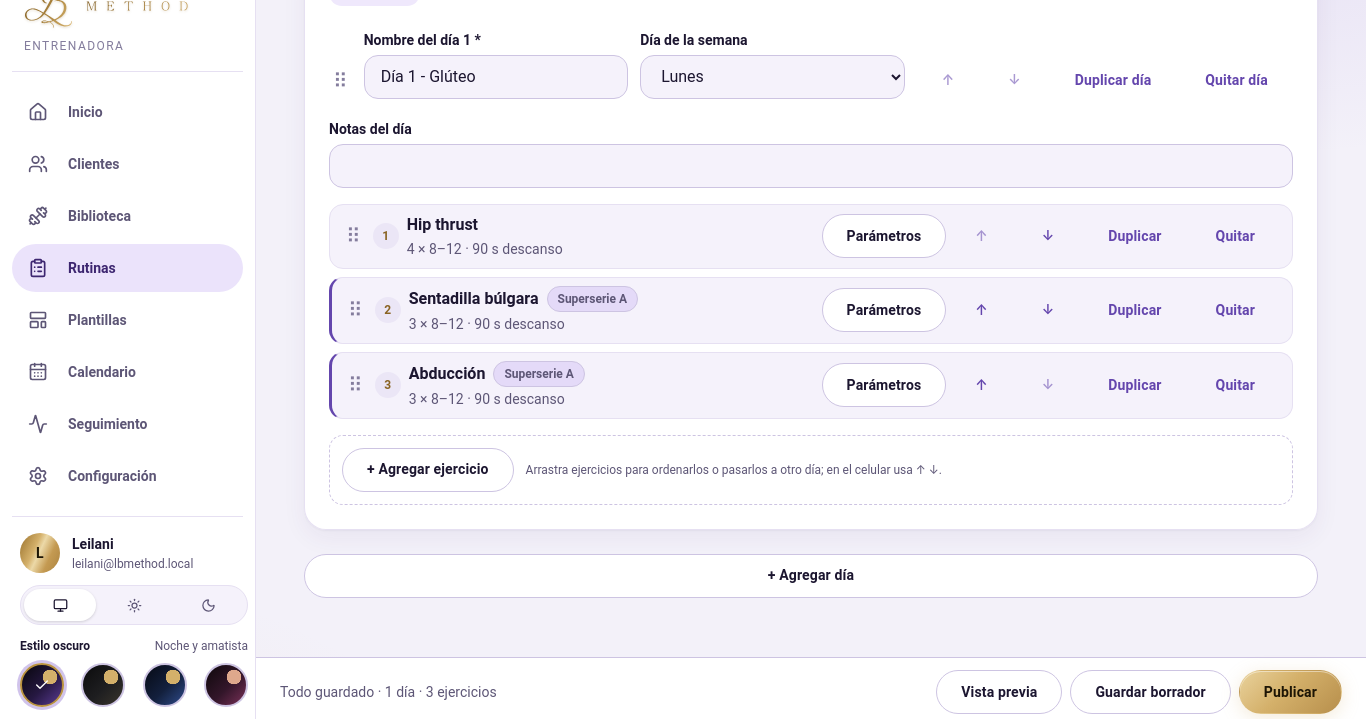
Test: rutinas › un ejercicio recién agregado no trae valores inventados y exige las series
(page scrolled)
Step 1. Click the button "+ Agregar ejercicio" → (428, 470), box [342, 448, 514, 492]
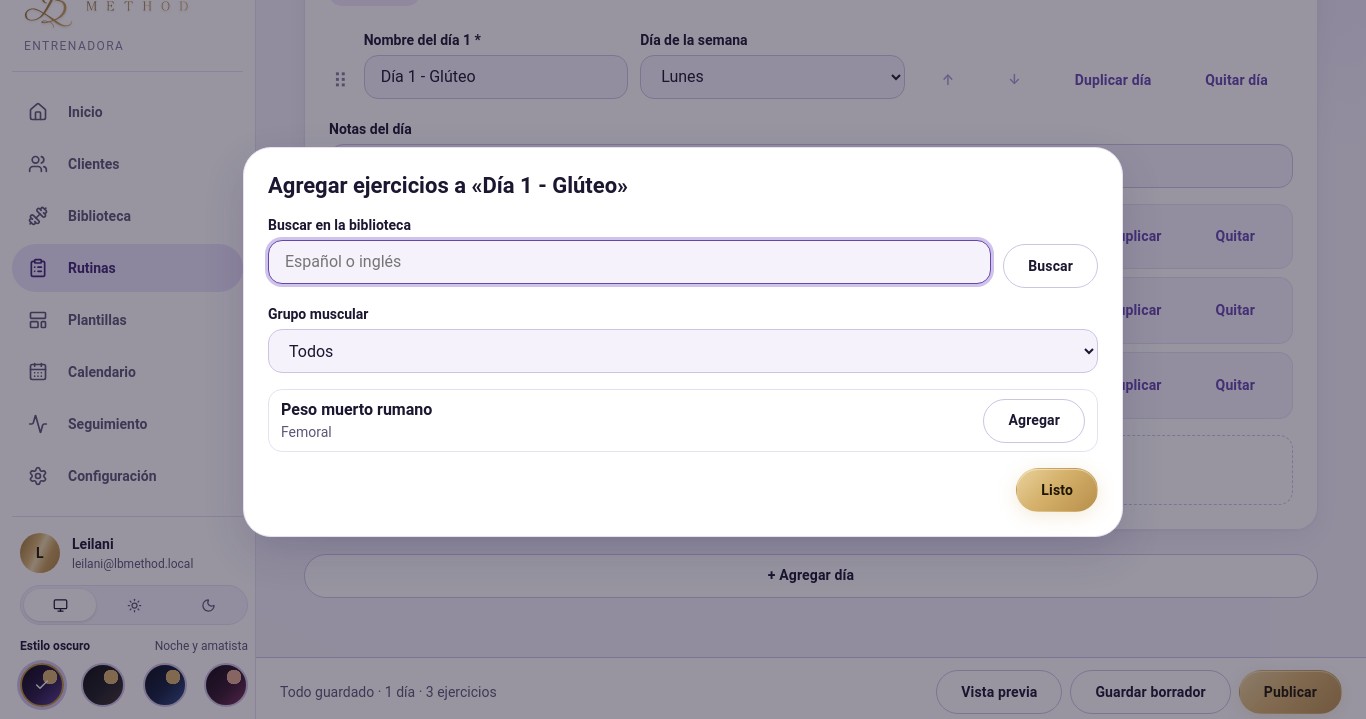
Step 2. Click the button with aria-label "Agregar Peso muerto rumano" → (1034, 421), box [983, 399, 1085, 443]
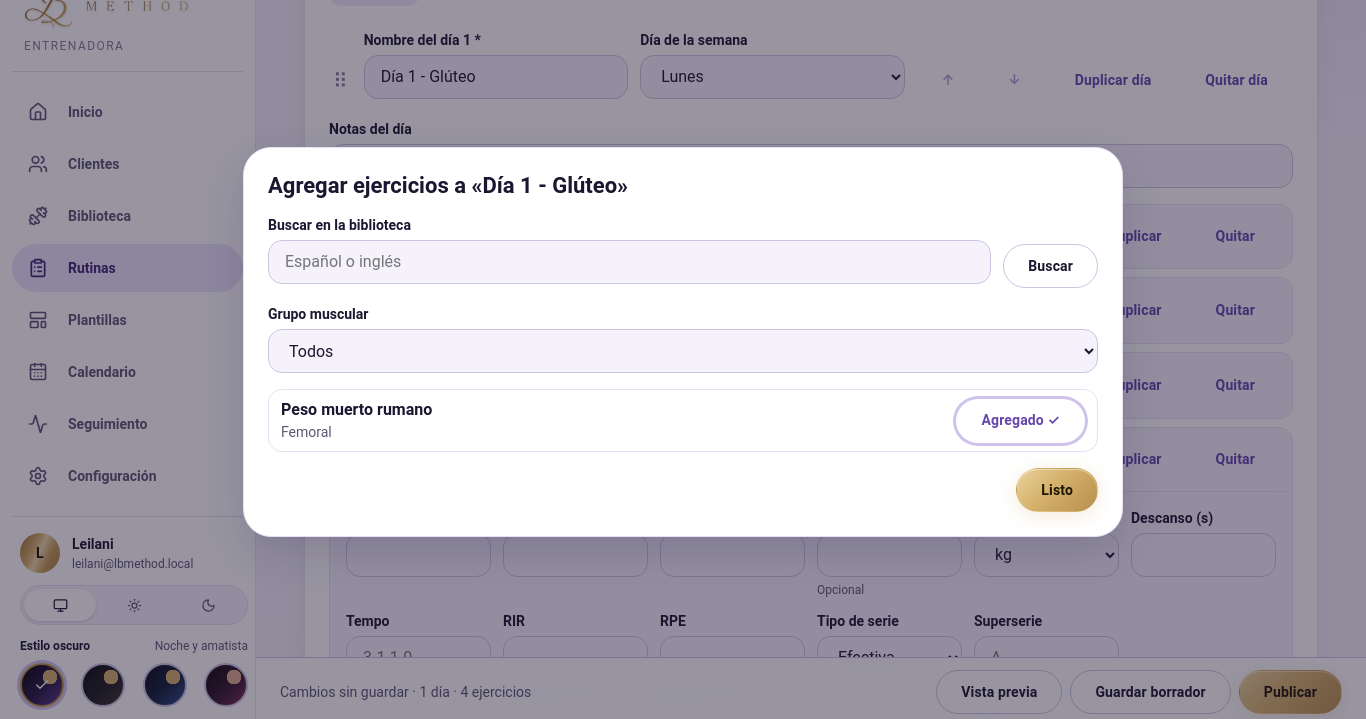
Step 3. Click the button "Listo" → (1057, 490), box [1016, 468, 1098, 512]
(page scrolled)
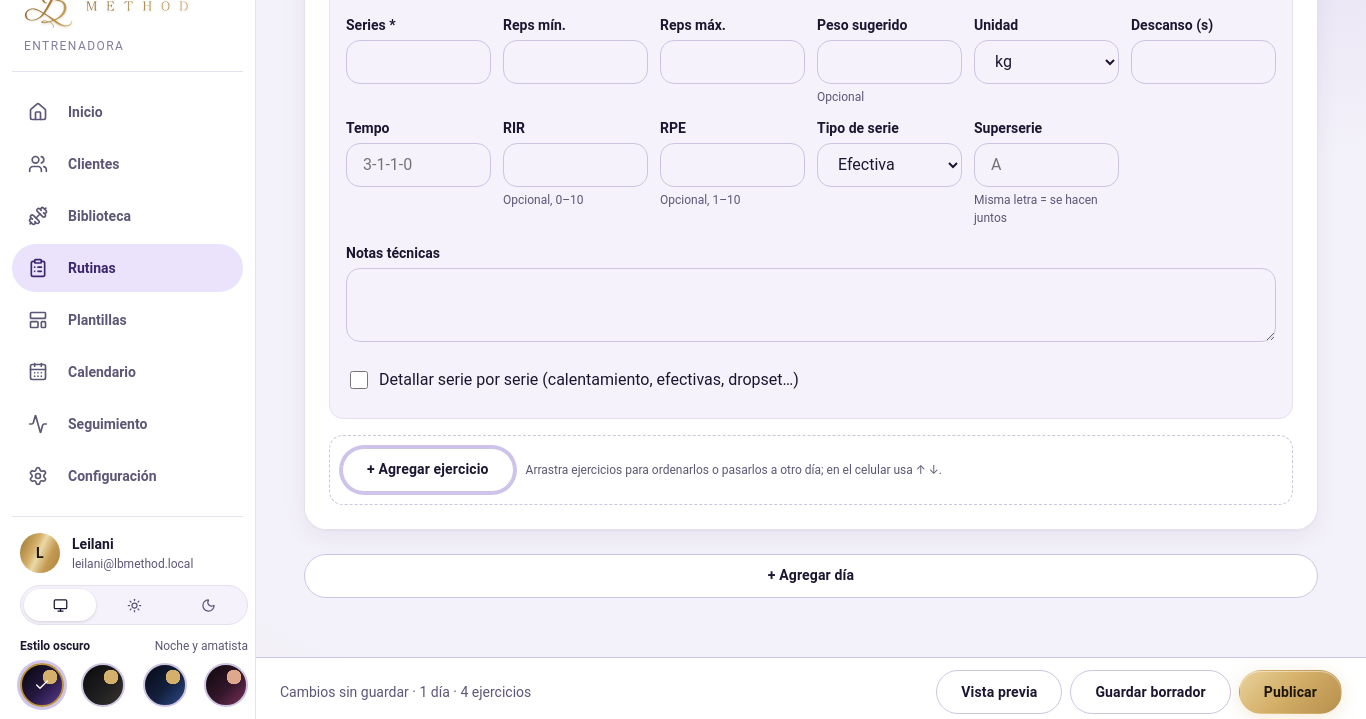
Now the field labelled "Series *" is empty, box [346, 40, 491, 84]
Now the field labelled "Reps mín." is empty, box [503, 40, 648, 84]
Now the field labelled "Descanso (s)" is empty, box [1131, 40, 1276, 84]
Step 4. Click the button "Guardar borrador" → (1151, 692), box [1070, 670, 1231, 714]
(page scrolled)
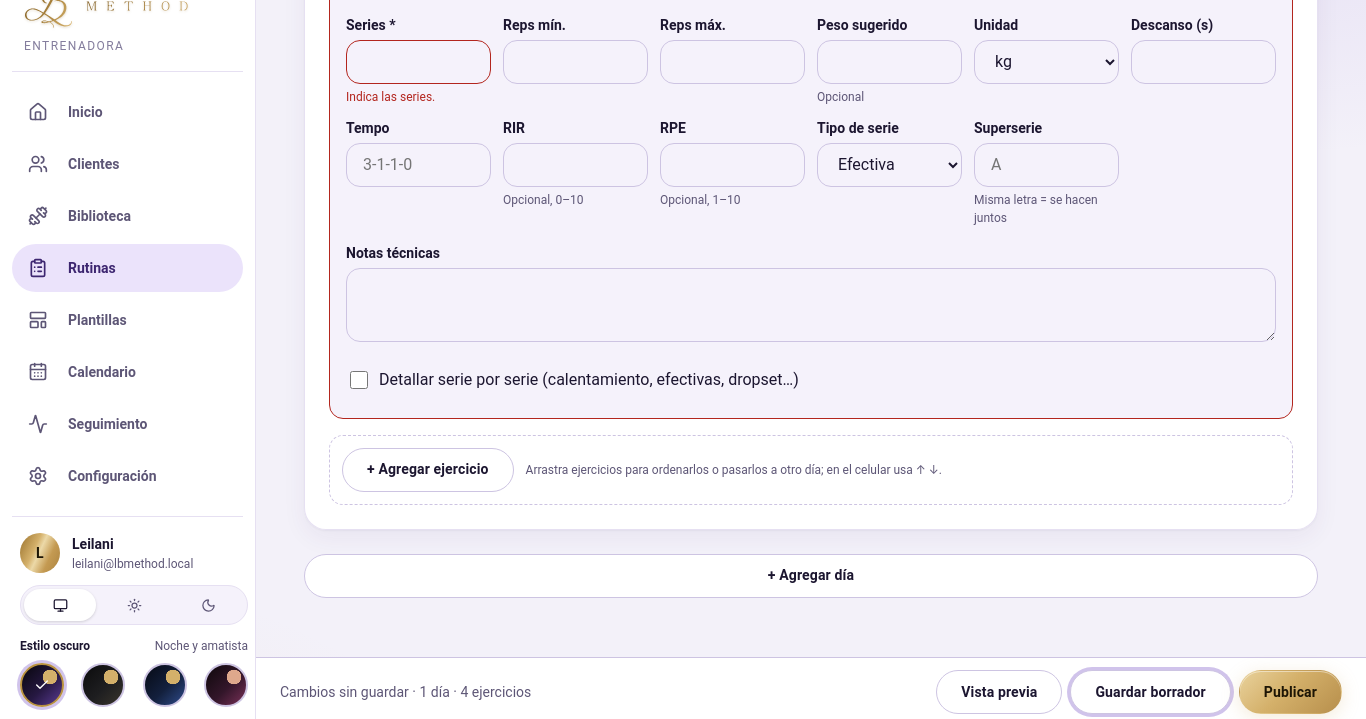
Now the text "Indica las series." is shown, box [346, 90, 435, 104]
